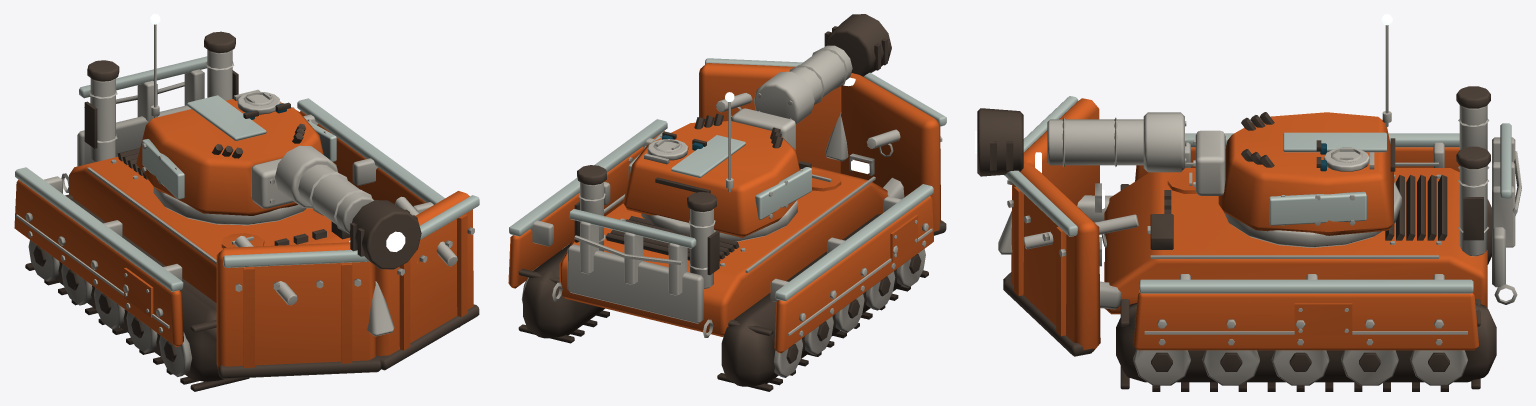
Rendered from rampart.glb.
The picture shows the model from 3 angles, left to right: view 1: azimuth 30°, elevation 25°; view 2: azimuth 150°, elevation 25°; view 3: azimuth 270°, elevation 25°; orthographic projection. The views are drawn at different scales.
Parts seen in each view (by area): view 1: Blade, Hull, Steel, Turret_head, Skirt, Trim, Tracks, Main_cannon, Turret_head.001, Muzzle_brake, Blade_back, Wheels (+5 smaller); view 2: Steel, Blade, Hull, Skirt, Turret_head, Tracks, Trim, Main_cannon, Turret_head.001, Deck, Wheels, Muzzle_brake (+4 smaller); view 3: Hull, Skirt, Blade, Turret_head, Steel, Tracks, Wheels, Trim, Main_cannon, Deck, Turret_head.001, Turret_head.002 (+6 smaller).
Boxes of the visible parts, <box> form: Blade: <box>216,191,473,369</box>; Hull: <box>69,156,350,302</box>; Steel: <box>16,49,433,333</box>; Turret_head: <box>136,99,323,215</box>; Skirt: <box>14,111,426,346</box>; Trim: <box>15,56,444,291</box>; Tracks: <box>25,194,459,391</box>; Main_cannon: <box>275,145,374,234</box>; Turret_head.001: <box>142,95,336,199</box>; Muzzle_brake: <box>349,200,421,269</box>; Blade_back: <box>217,304,479,378</box>; Wheels: <box>28,240,192,376</box>; Steel: <box>530,138,932,337</box>; Blade: <box>699,63,940,231</box>; Hull: <box>559,166,888,336</box>; Skirt: <box>508,131,933,353</box>; Turret_head: <box>623,121,799,237</box>; Tracks: <box>518,213,928,391</box>; Trim: <box>509,119,933,301</box>; Main_cannon: <box>754,45,852,124</box>; Turret_head.001: <box>628,132,811,219</box>; Deck: <box>574,161,811,274</box>; Wheels: <box>521,244,925,377</box>; Muzzle_brake: <box>824,14,891,76</box>; Hull: <box>1104,168,1487,314</box>; Skirt: <box>1133,147,1478,350</box>; Blade: <box>1011,98,1100,351</box>; Turret_head: <box>1218,112,1393,235</box>; Steel: <box>1095,105,1521,345</box>; Tracks: <box>1116,184,1496,391</box>; Wheels: <box>1133,349,1467,385</box>; Trim: <box>1139,123,1511,293</box>; Main_cannon: <box>1047,112,1186,172</box>; Deck: <box>1164,86,1490,240</box>; Turret_head.001: <box>1269,132,1386,225</box>; Turret_head.002: <box>1193,25,1391,225</box>.
Size of the model in its own units: 3.2 by 2.74 by 4.74.
